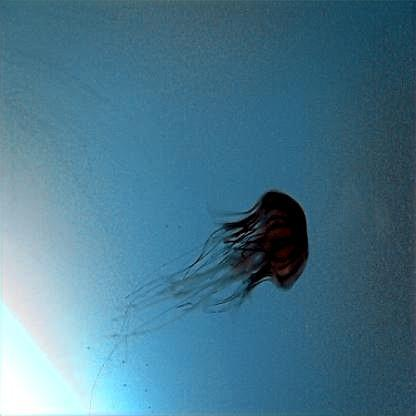Moon: (166, 190, 308, 310)
